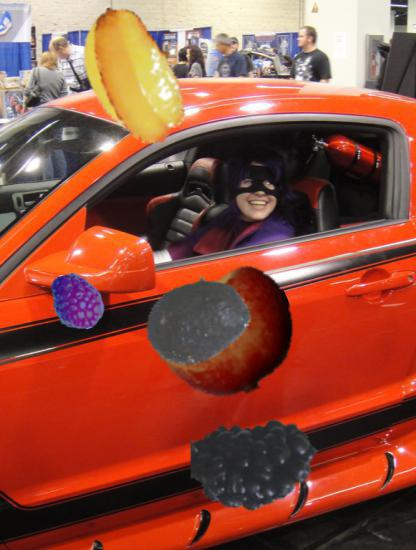Avocado: (147, 269, 252, 374)
Carambula: (65, 2, 210, 147)
Mulberry: (191, 402, 318, 529)
Nectarine: (157, 265, 298, 406)
Raspberry: (48, 273, 106, 331)
